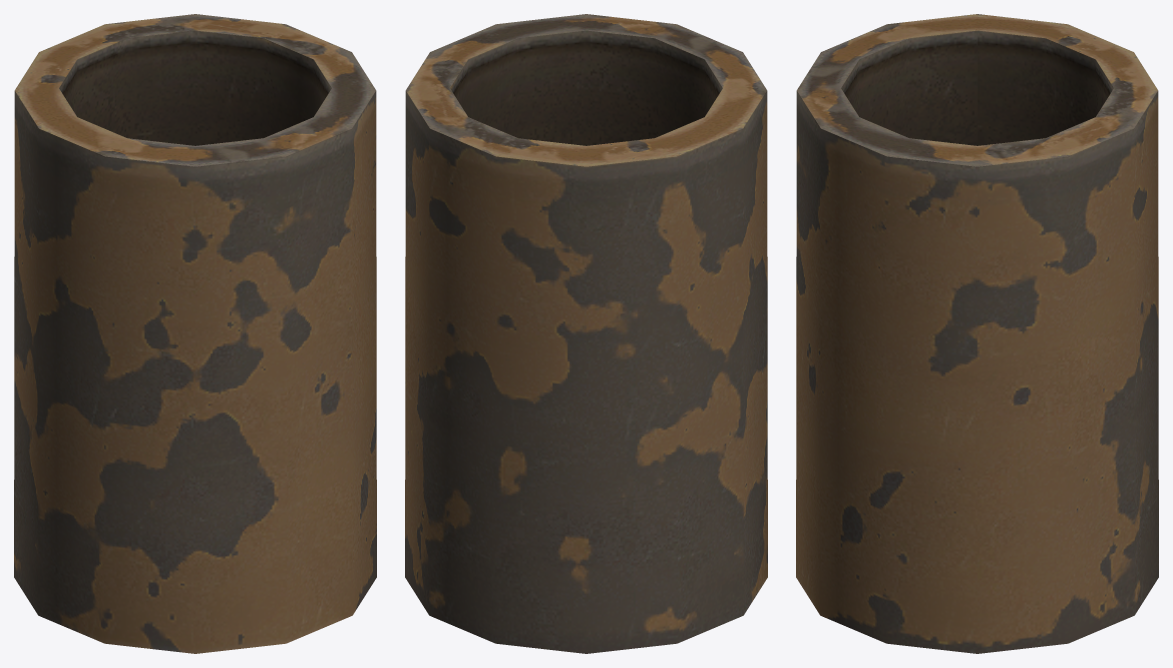
File: burning barrel.fbx
3 views of the same model, side by side, from view 1: azimuth 30°, elevation 25°; view 2: azimuth 150°, elevation 25°; view 3: azimuth 270°, elevation 25° (orthographic).
Visible parts, largest first — view 1: burning barrel_low; view 2: burning barrel_low; view 3: burning barrel_low.
Part boxes in pixels (x1,y1,x2,y2): burning barrel_low: (14,14,376,653); burning barrel_low: (405,14,767,653); burning barrel_low: (796,14,1158,653).
Bounding box in the file's own units: 135 × 200 × 135.
